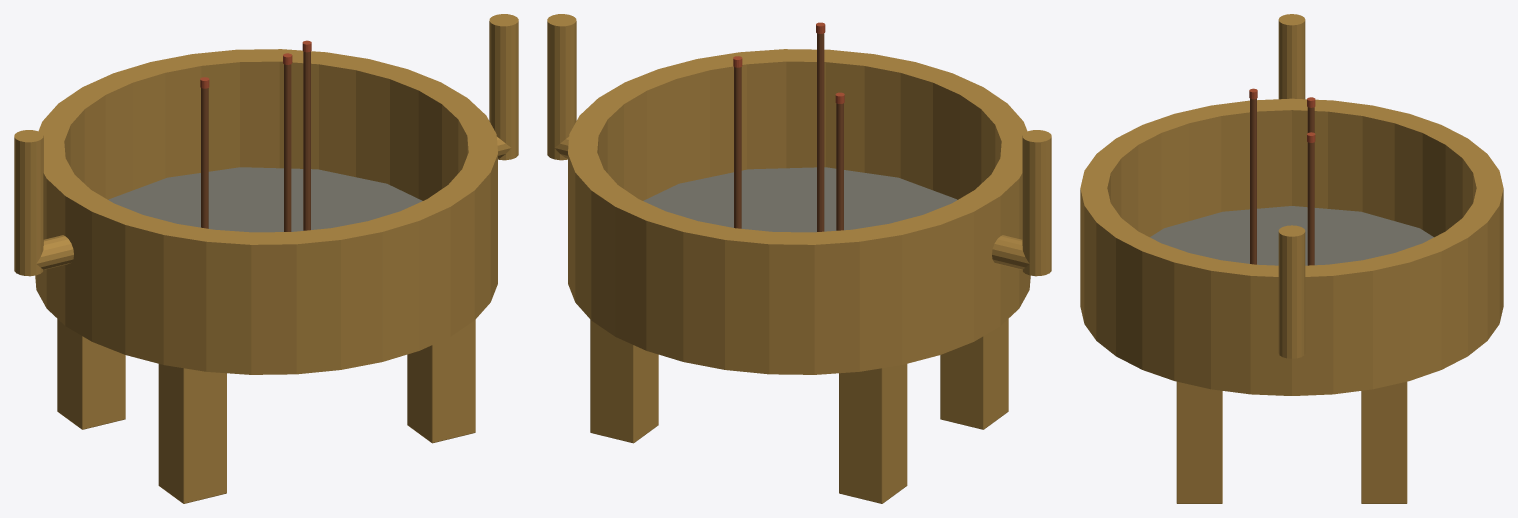
The model's file is temple-incense-burner.glb.
3 renders of one model, left to right at view 1: azimuth 30°, elevation 25°; view 2: azimuth 150°, elevation 25°; view 3: azimuth 270°, elevation 25°, orthographic. The views are drawn at different scales.
Parts seen in each view (by area): view 1: Bowl, Ash_Bed, Foot, Foot.002, Foot.001, Handle_Upright, Handle_Upright.001, Incense_Stick.002, Incense_Stick.001, Incense_Stick, Handle_Link; view 2: Bowl, Ash_Bed, Foot.001, Foot.003, Foot, Handle_Upright, Handle_Upright.001, Incense_Stick.001, Incense_Stick.002, Incense_Stick, Handle_Link; view 3: Bowl, Ash_Bed, Foot.002, Foot.003, Handle_Upright.001, Handle_Upright, Incense_Stick.001, Incense_Stick.002.
Boxes of the visible parts, x1,y1,x2,y2 form: Bowl: [35, 49, 497, 374]; Ash_Bed: [108, 167, 422, 232]; Foot: [158, 364, 226, 503]; Foot.002: [407, 320, 475, 443]; Foot.001: [57, 319, 125, 429]; Handle_Upright: [14, 130, 43, 276]; Handle_Upright.001: [489, 14, 518, 160]; Incense_Stick.002: [303, 51, 310, 230]; Incense_Stick.001: [284, 64, 291, 231]; Incense_Stick: [201, 88, 208, 228]; Handle_Link: [36, 235, 73, 269]; Bowl: [568, 49, 1030, 374]; Ash_Bed: [643, 167, 957, 232]; Foot.001: [839, 364, 907, 503]; Foot.003: [590, 320, 658, 443]; Foot: [940, 319, 1008, 429]; Handle_Upright: [1022, 130, 1051, 276]; Handle_Upright.001: [547, 14, 576, 160]; Incense_Stick.001: [817, 33, 824, 231]; Incense_Stick.002: [734, 67, 741, 228]; Incense_Stick: [836, 103, 843, 230]; Handle_Link: [992, 235, 1029, 269]; Bowl: [1080, 98, 1503, 395]; Ash_Bed: [1150, 206, 1433, 265]; Foot.002: [1176, 381, 1222, 503]; Foot.003: [1361, 381, 1407, 503]; Handle_Upright.001: [1278, 225, 1305, 358]; Handle_Upright: [1278, 14, 1305, 99]; Incense_Stick.001: [1250, 98, 1256, 264]; Incense_Stick.002: [1307, 142, 1314, 265].
Size of the model in its own units: 1.37 by 1 by 1.1.
